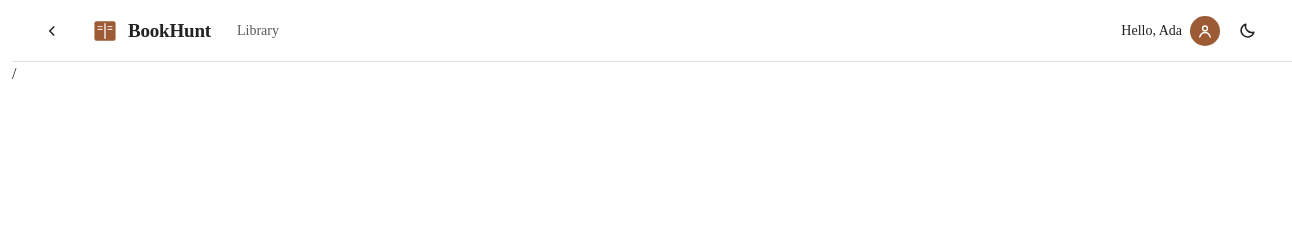
it: TopBar › offers Favourites even to a reader with no handle, which Profile needs
What coordinates should you click on to do the following:
click the button named "Account"
I would click on:
 (1205, 30)
Its box is [1190,16,1220,46].
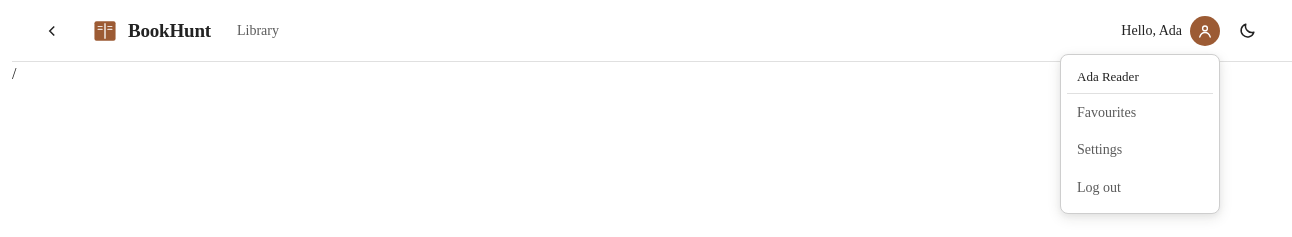
Expected: the menu item "Favourites" is shown, [1077,105,1136,120]
